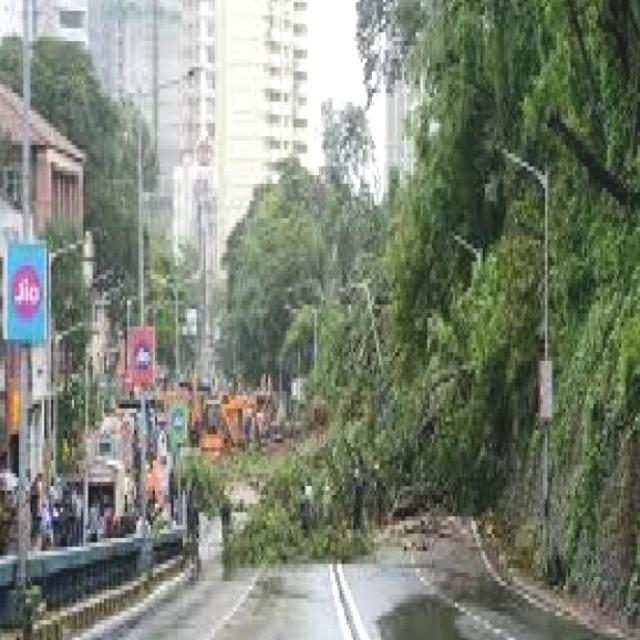fallen_object: (214, 327, 507, 562)
